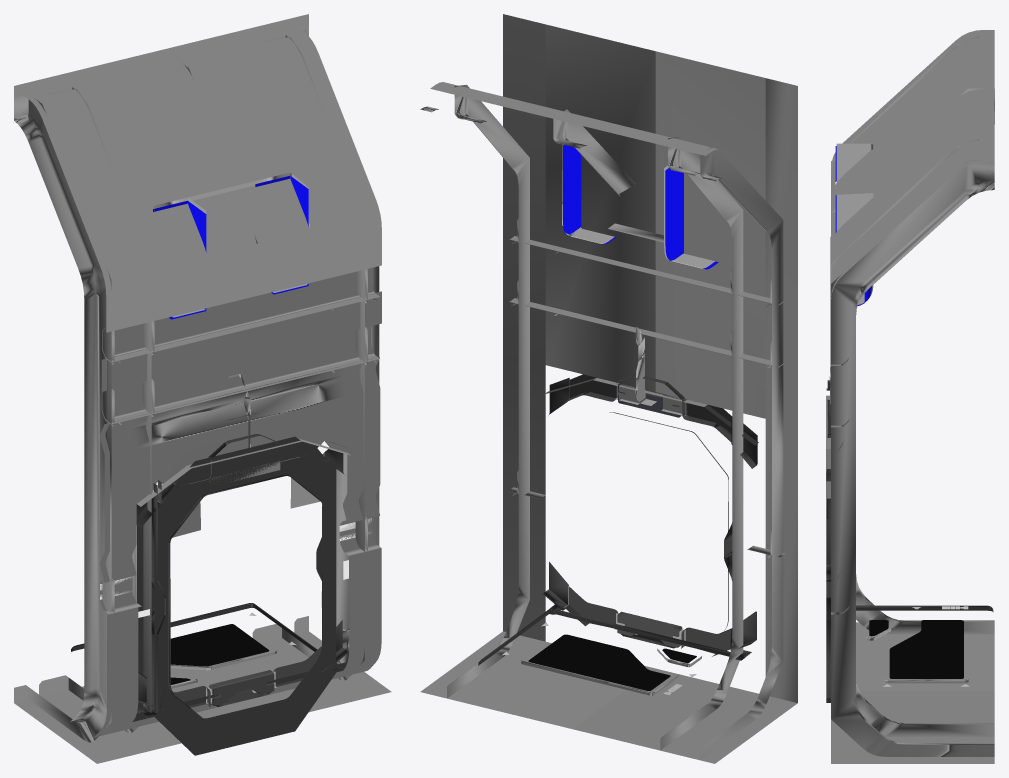
The model's file is roomsm_b_wall_straight_vent_bottom_02x01x04_a.glb.
3 renders of one model, left to right at view 1: azimuth 30°, elevation 25°; view 2: azimuth 150°, elevation 25°; view 3: azimuth 270°, elevation 25°, orthographic.
Bounding box in the file's own units: 2 × 4.1 × 1.01.
